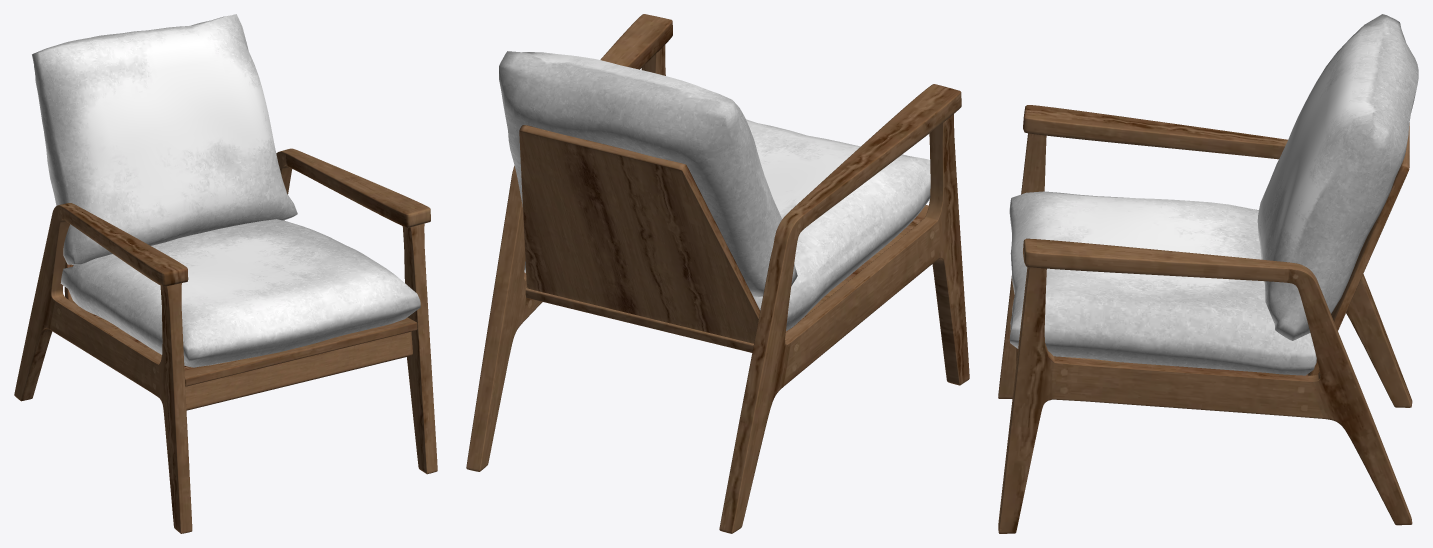
Rendered from armchair-modern.glb.
3 views of the same model, side by side, from view 1: azimuth 30°, elevation 25°; view 2: azimuth 150°, elevation 25°; view 3: azimuth 270°, elevation 25° (orthographic). The views are drawn at different scales.
Visible parts, largest first — view 1: modern_arm_chair_01; view 2: modern_arm_chair_01; view 3: modern_arm_chair_01.
Boxes of the visible parts, <box> form: modern_arm_chair_01: <box>14,14,437,533</box>; modern_arm_chair_01: <box>466,14,969,533</box>; modern_arm_chair_01: <box>998,14,1418,533</box>.
Bounding box in the file's own units: 0.8203 × 1.02 × 0.9865.
Materials: 2 (2 with a texture image).
